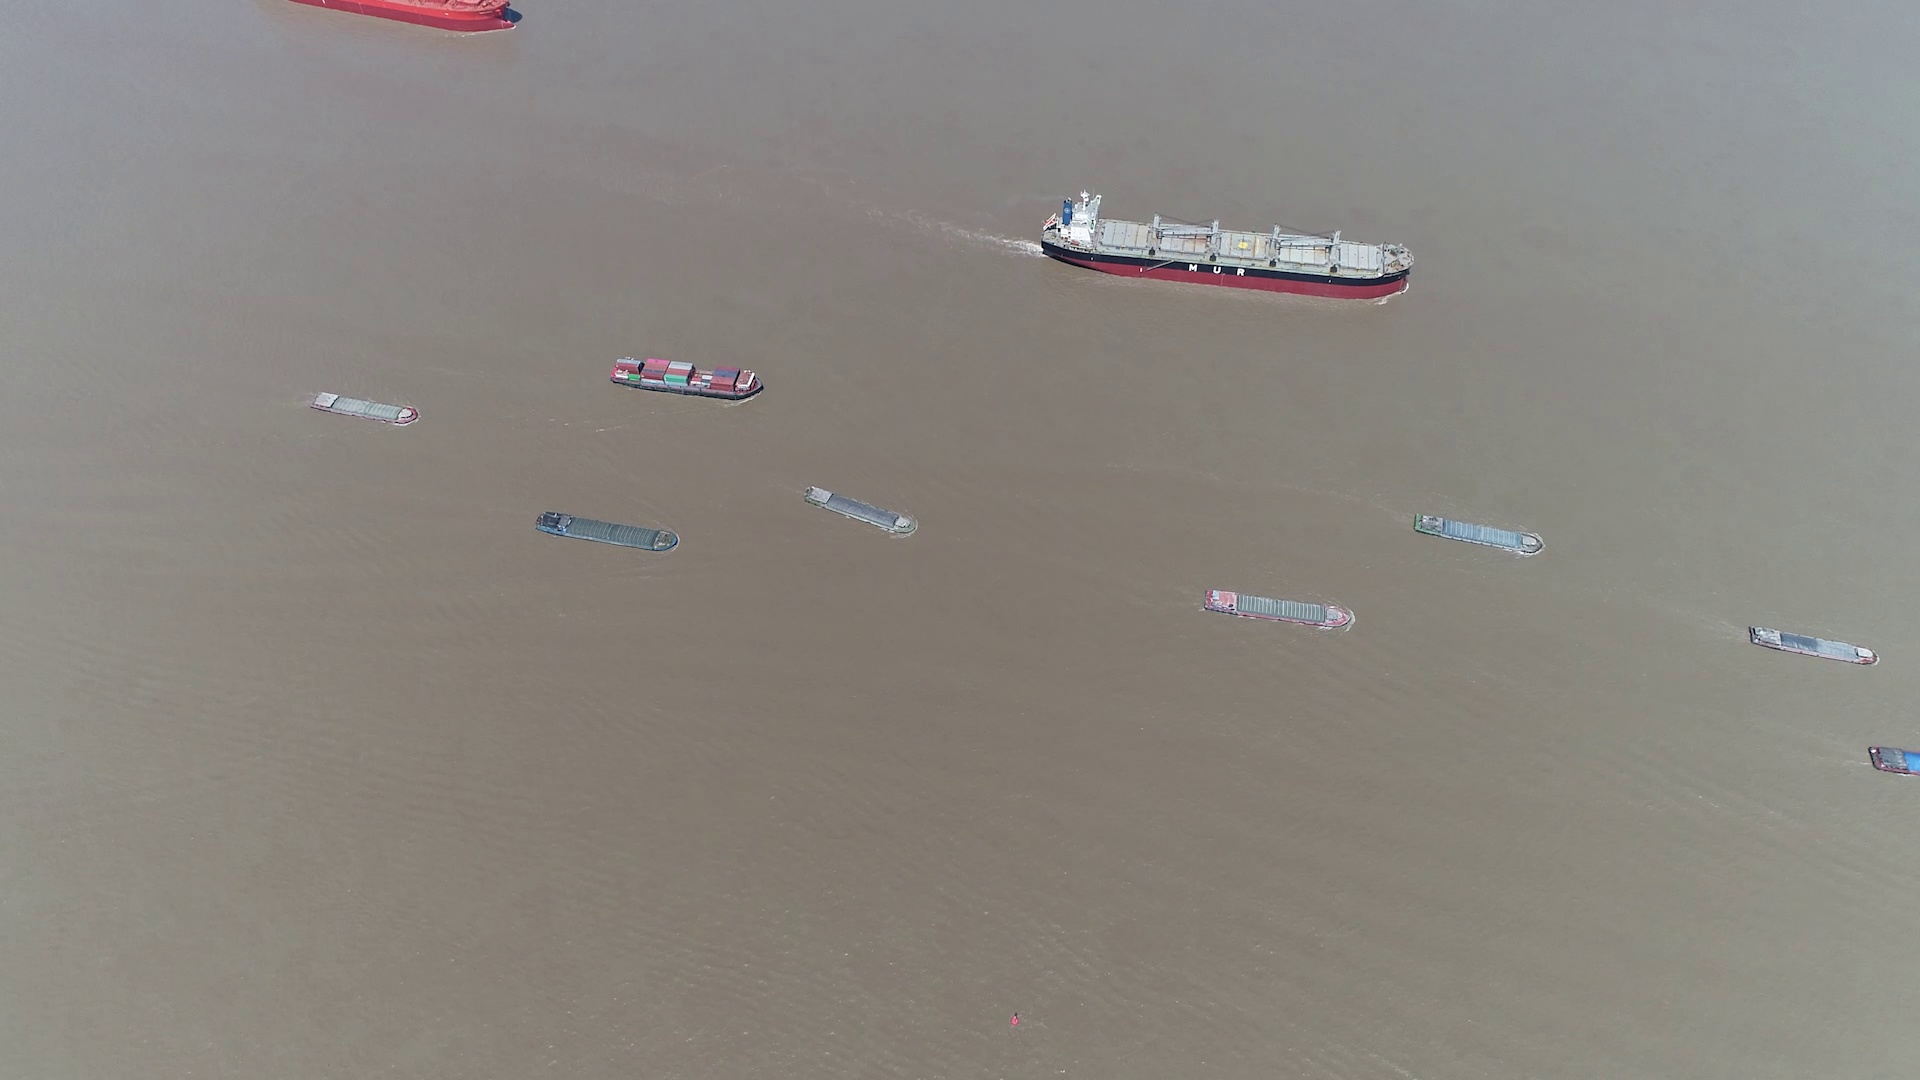ship: (1043, 193, 1414, 299), (1203, 588, 1356, 632), (608, 357, 764, 400), (804, 485, 918, 538), (1412, 512, 1545, 556), (535, 512, 679, 553), (1746, 625, 1876, 665), (309, 392, 419, 426), (1869, 745, 1917, 778)
